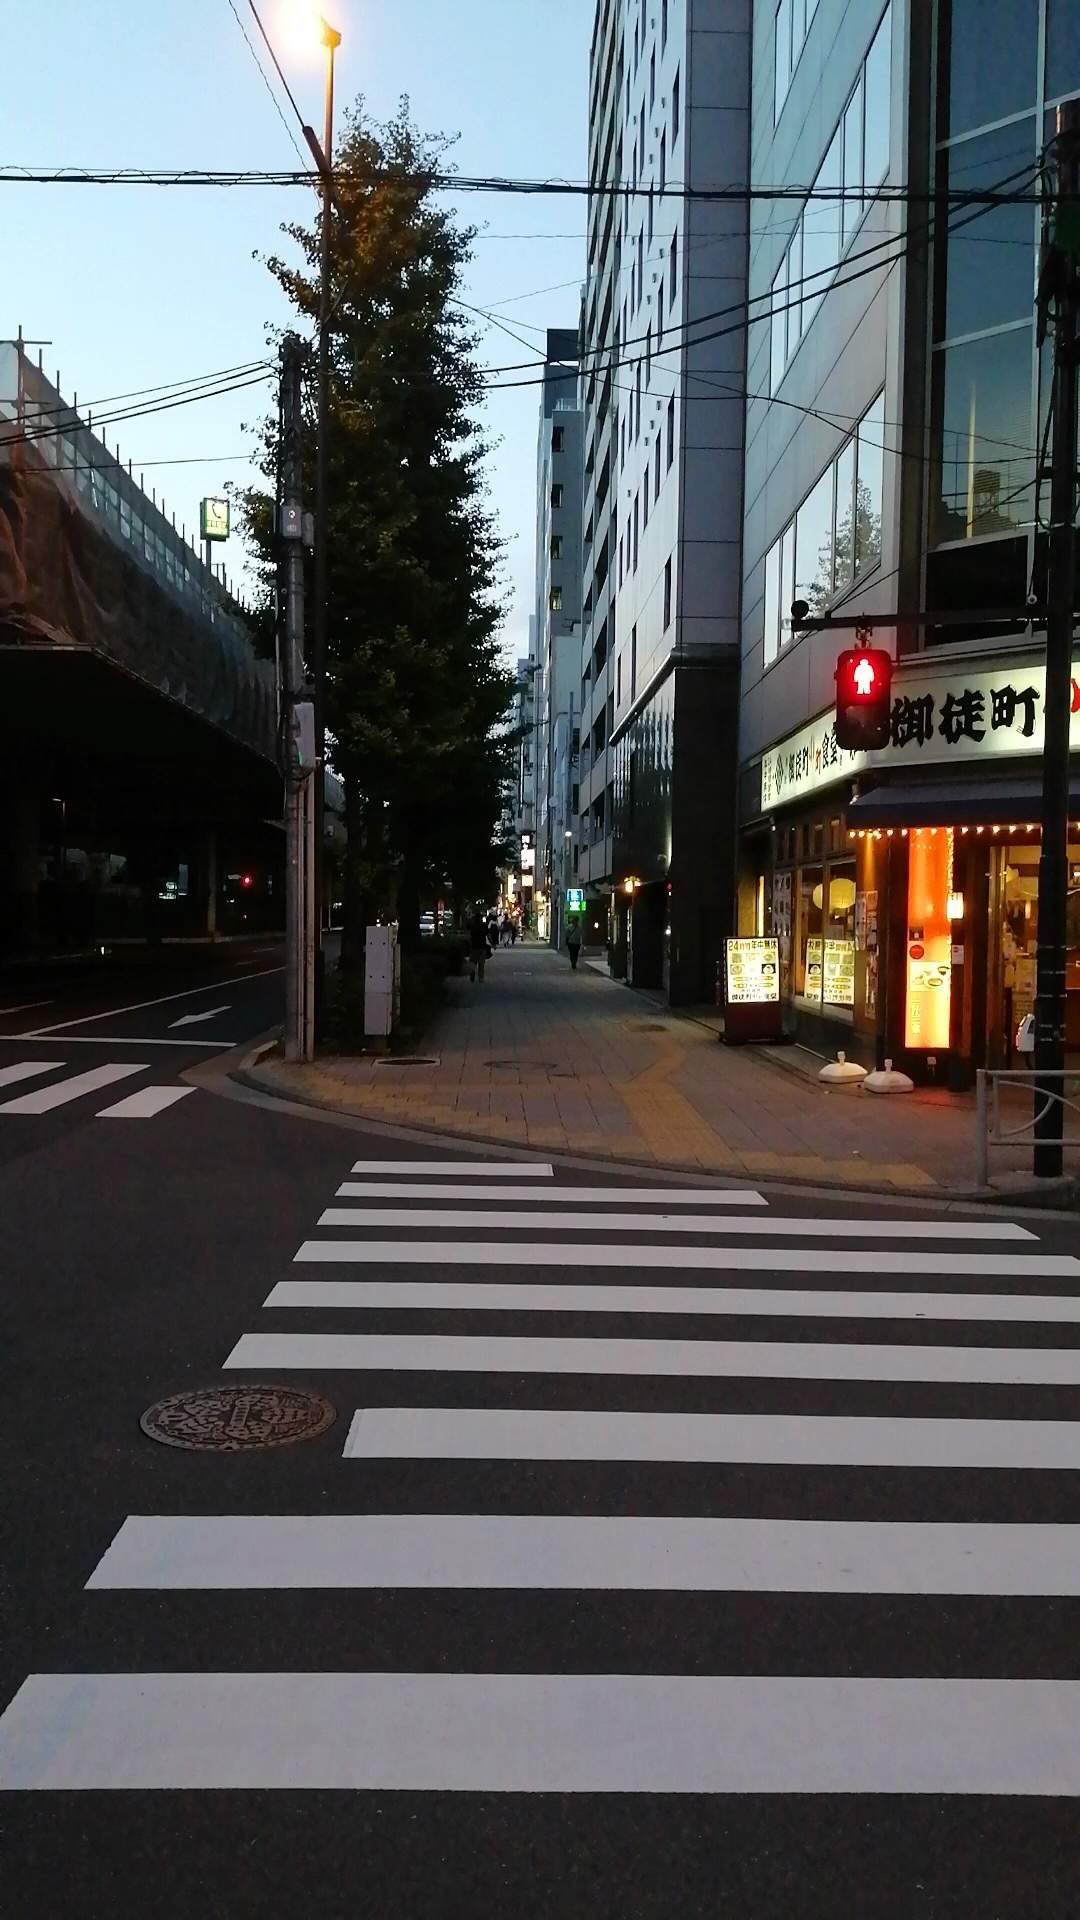red: (837, 647, 889, 752)
